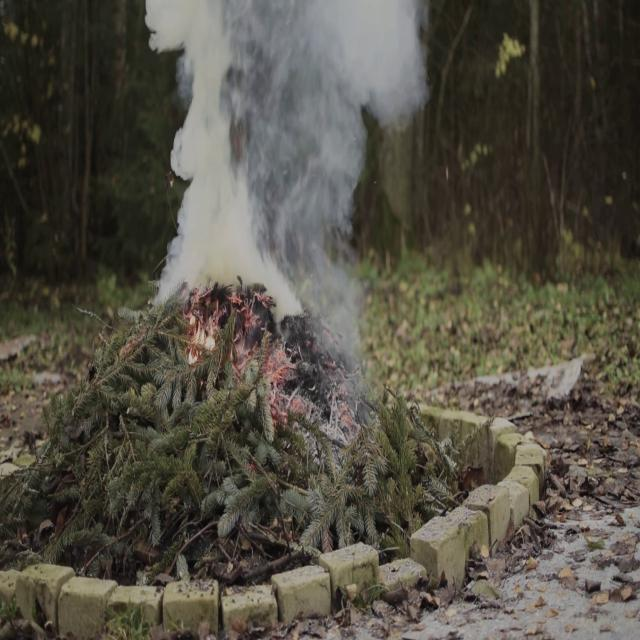Smoke: (155, 0, 429, 335), (153, 0, 277, 311)
